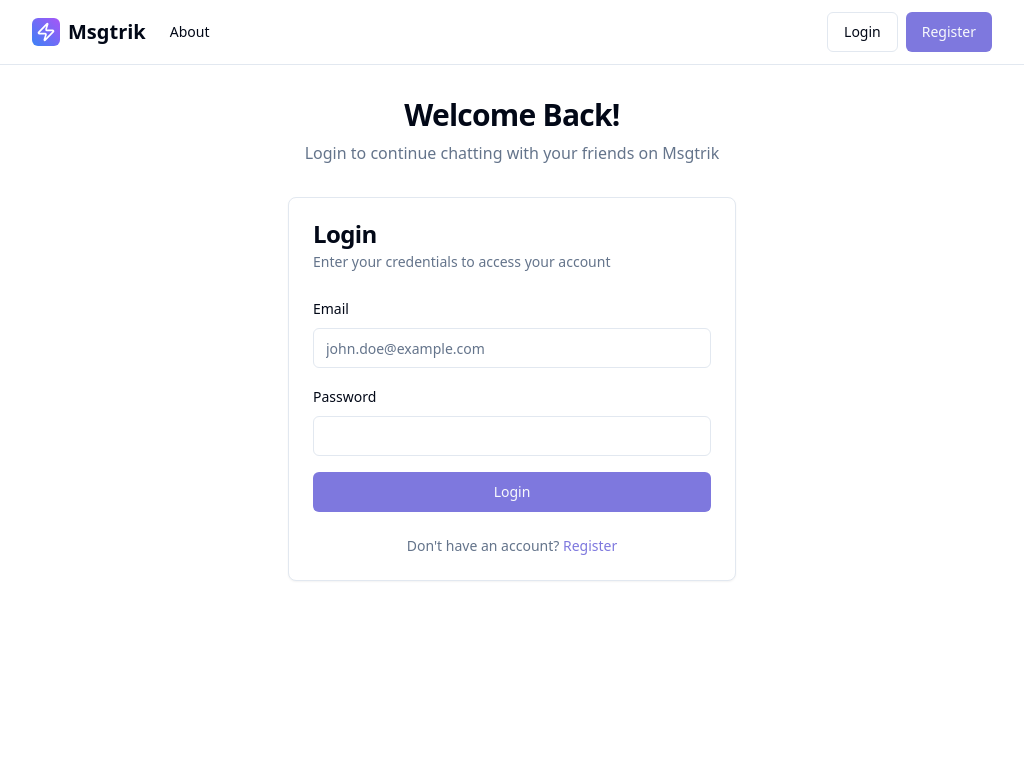
Test case: Chat › should start a chat with another user
The width and height of the screenshot is (1024, 768).
Type "test@example.com" into the field with id "email". click: point(512, 348)
box: [313,328,711,368]
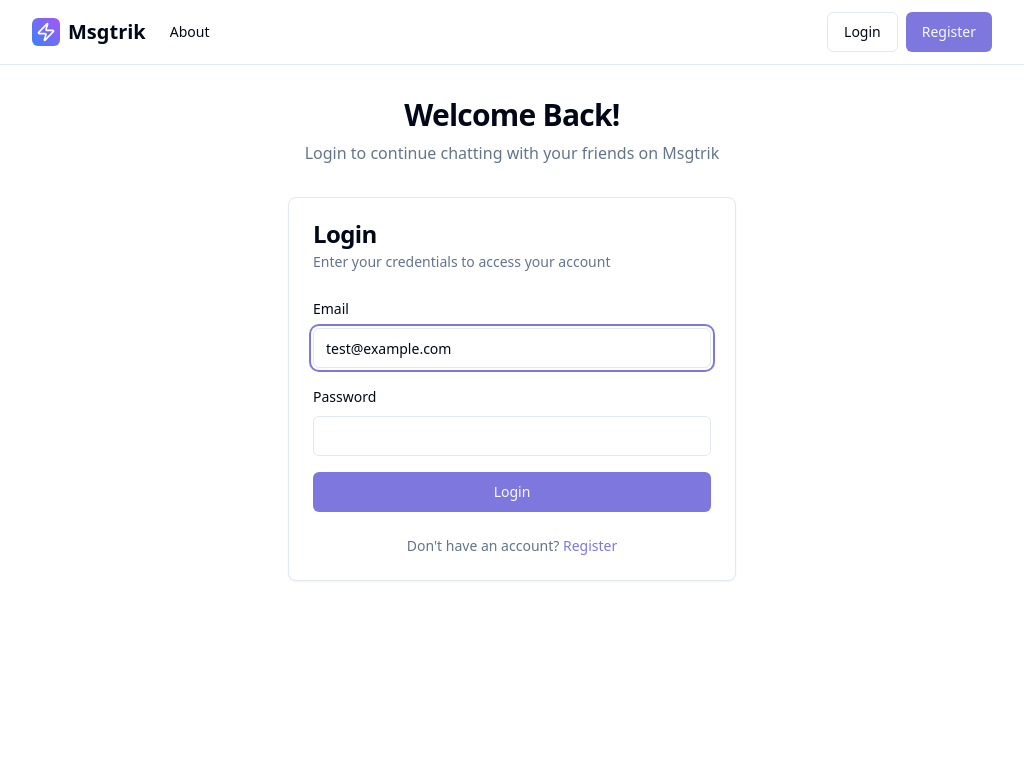
Type "testpassword" into the password field labelled "Password". click: point(512, 436)
box: [313,416,711,456]
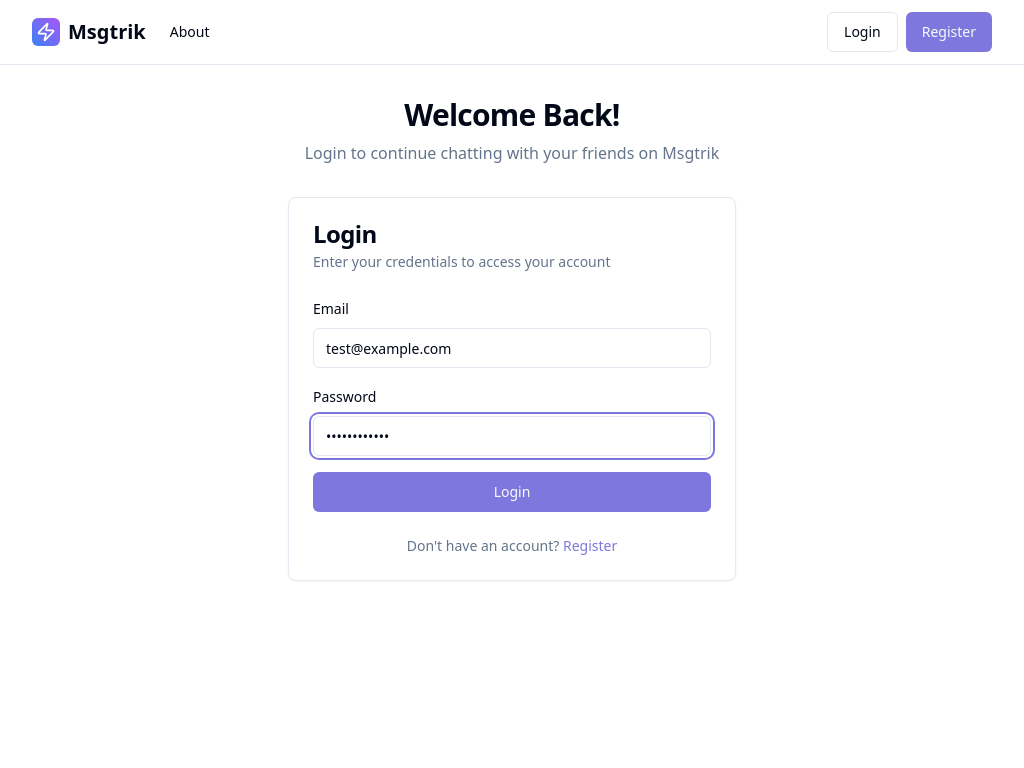
Click the submit button. click: point(512, 492)
box: [313,472,711,512]
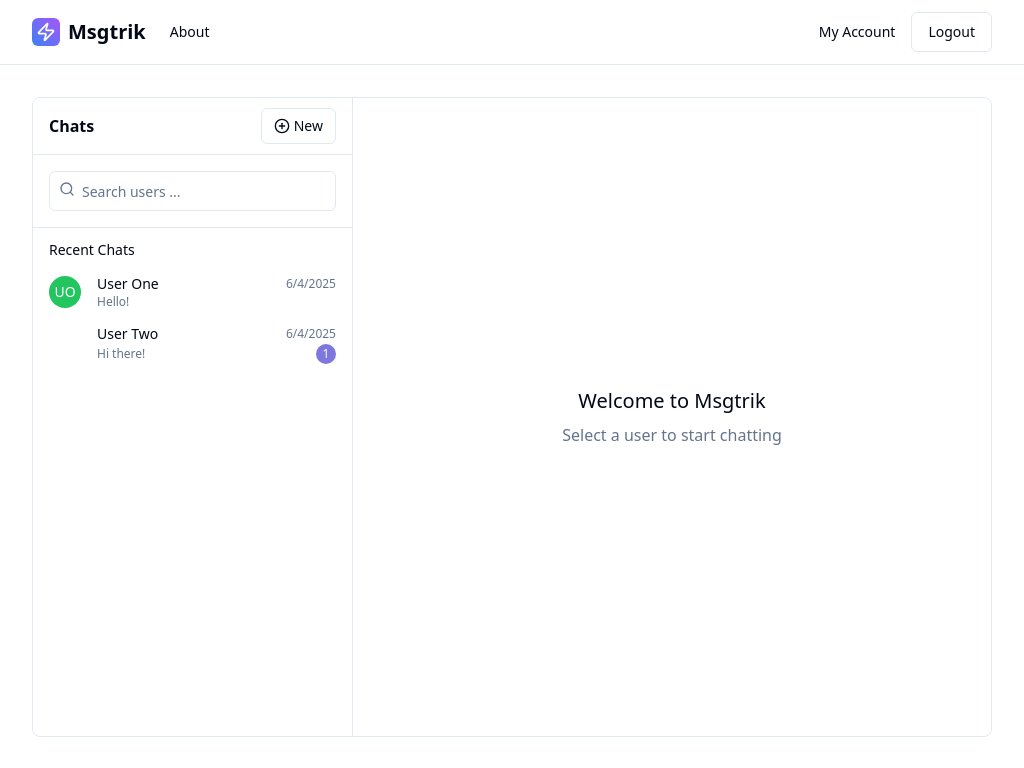
Click the button with test id "chat-item". click: point(65, 292)
box: [41,268,344,316]
(page scrolled)
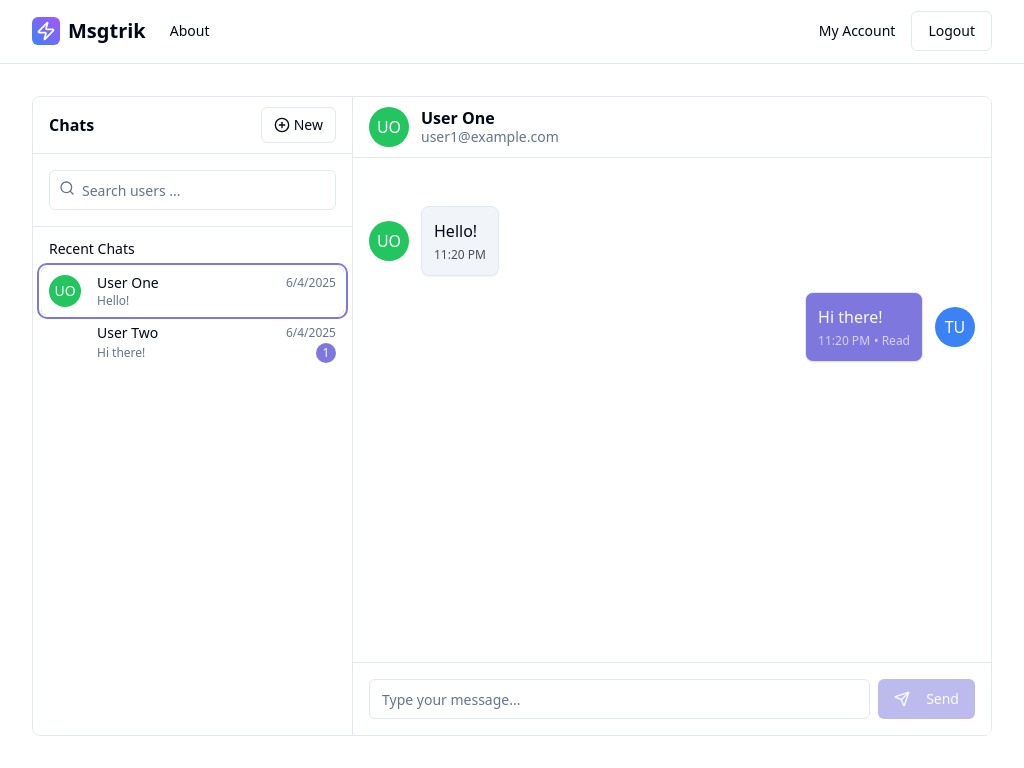
Check: the field with test id "message-input" is shown, box [369,679,870,719]
Check: the button with test id "send-message-button" is shown, box [878,679,975,719]
